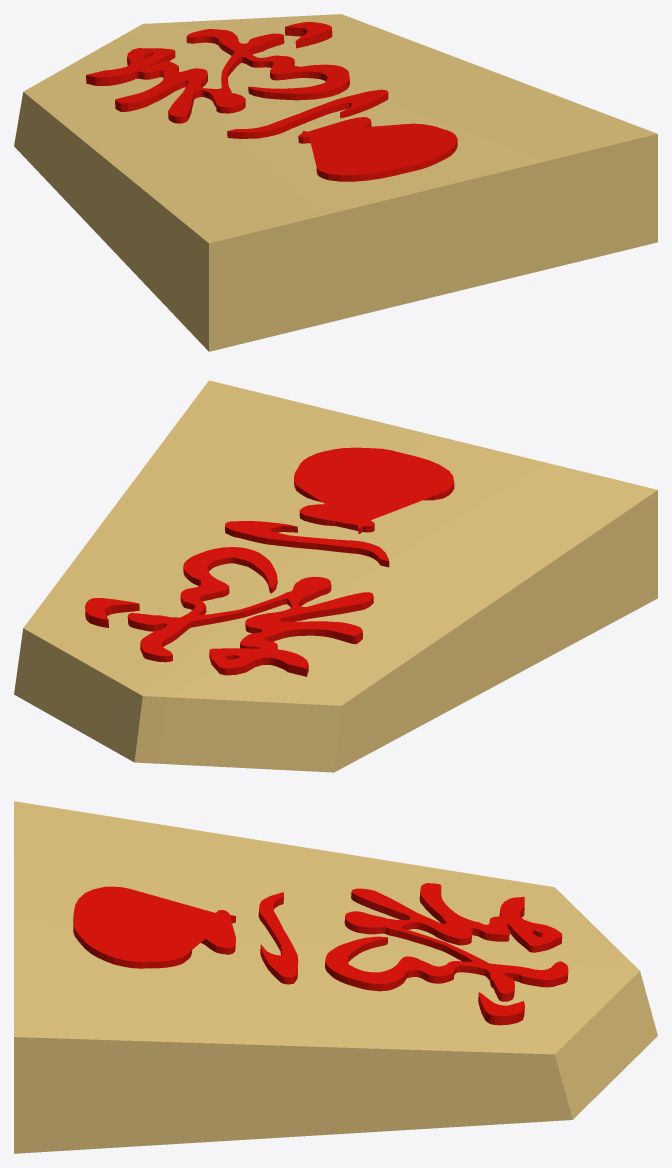
File: DragonCheval.fbx
3 renders of one model, top to bottom at view 1: azimuth 30°, elevation 25°; view 2: azimuth 150°, elevation 25°; view 3: azimuth 270°, elevation 25°, orthographic. The views are drawn at different scales.
Visible parts, largest first — view 1: ChevalDragon; view 2: ChevalDragon; view 3: ChevalDragon.
Boxes of the visible parts, <box> form: ChevalDragon: <box>14,14,657,351</box>; ChevalDragon: <box>14,380,657,772</box>; ChevalDragon: <box>14,801,657,1153</box>.
Bounding box in the file's own units: 63.4 × 73.15 × 14.86.
